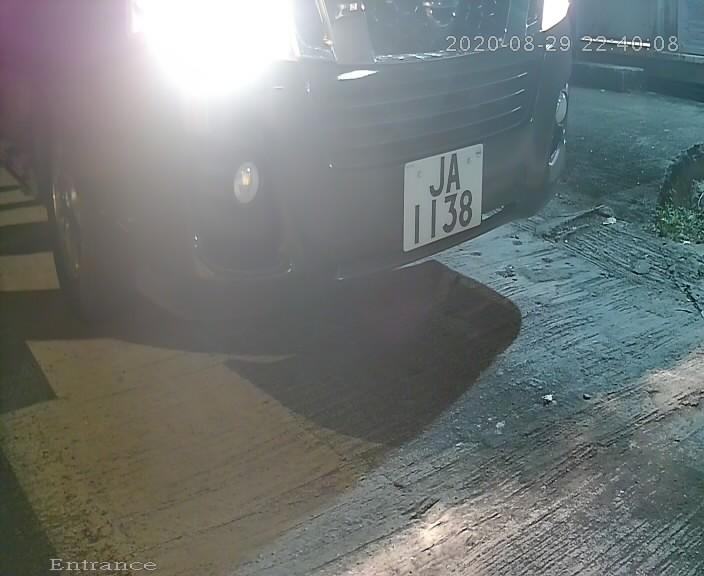License Plate: (393, 129, 491, 268)
